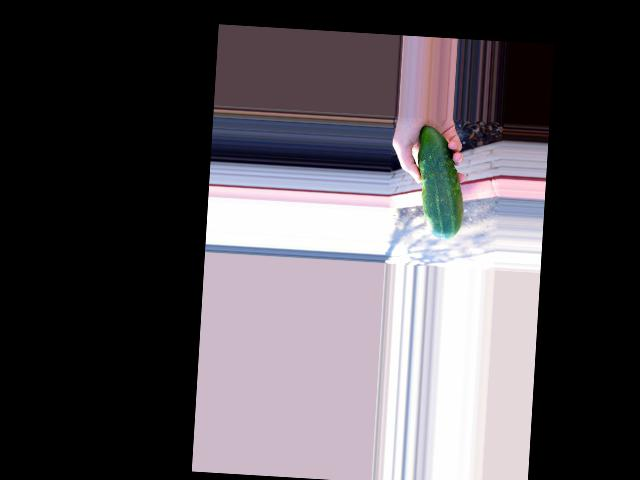cucumber: (413, 125, 469, 239)
